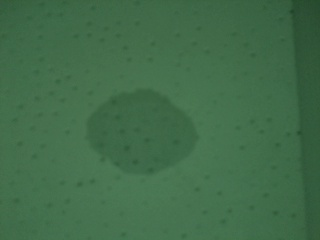Water_detected: (103, 100, 183, 161)
